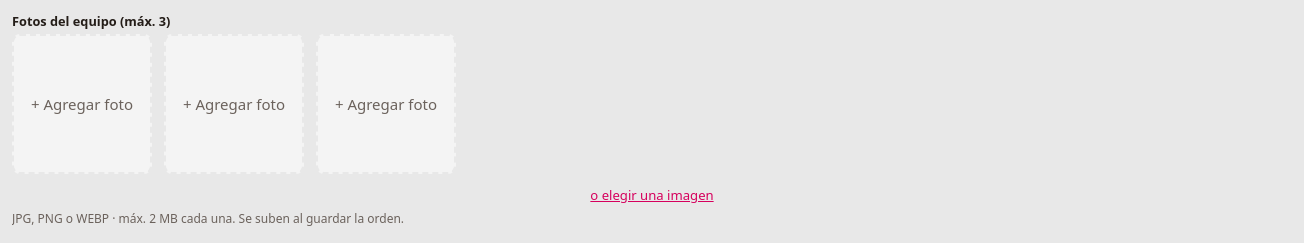
Test: PhotoSlots › without camera permission it explains and offers choosing an image
What coordinates should you click on to do the following:
click the 1st button "+ Agregar foto"
I would click on:
 (82, 104)
Its box is [12, 34, 152, 174].
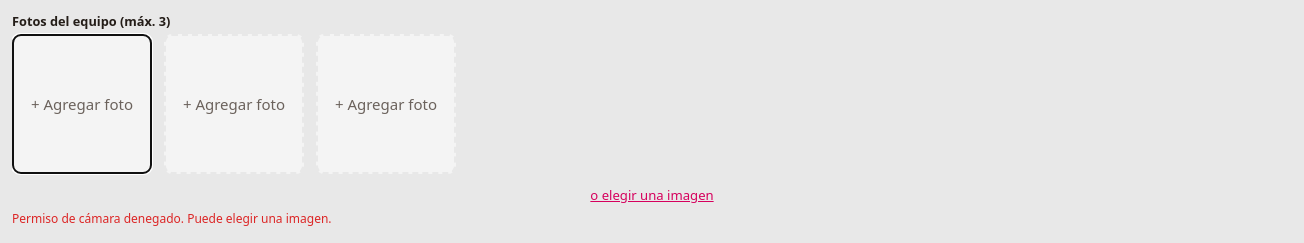
Expected: the button "o elegir una imagen" is shown, [12, 186, 1292, 206]
Expected: the message shows "Permiso de cámara denegado", [12, 210, 332, 226]
